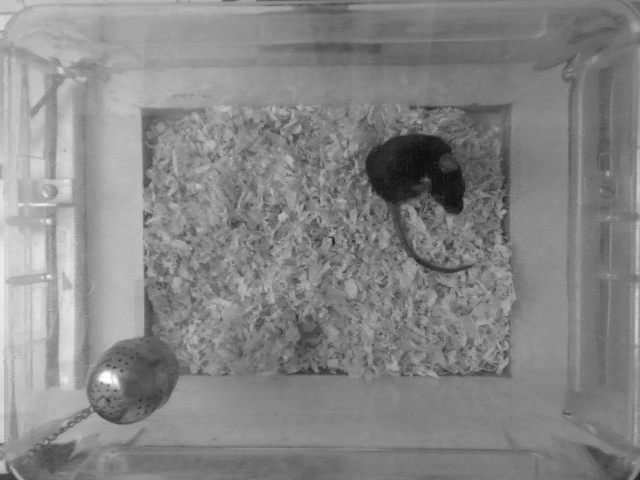mice: (358, 129, 480, 274)
